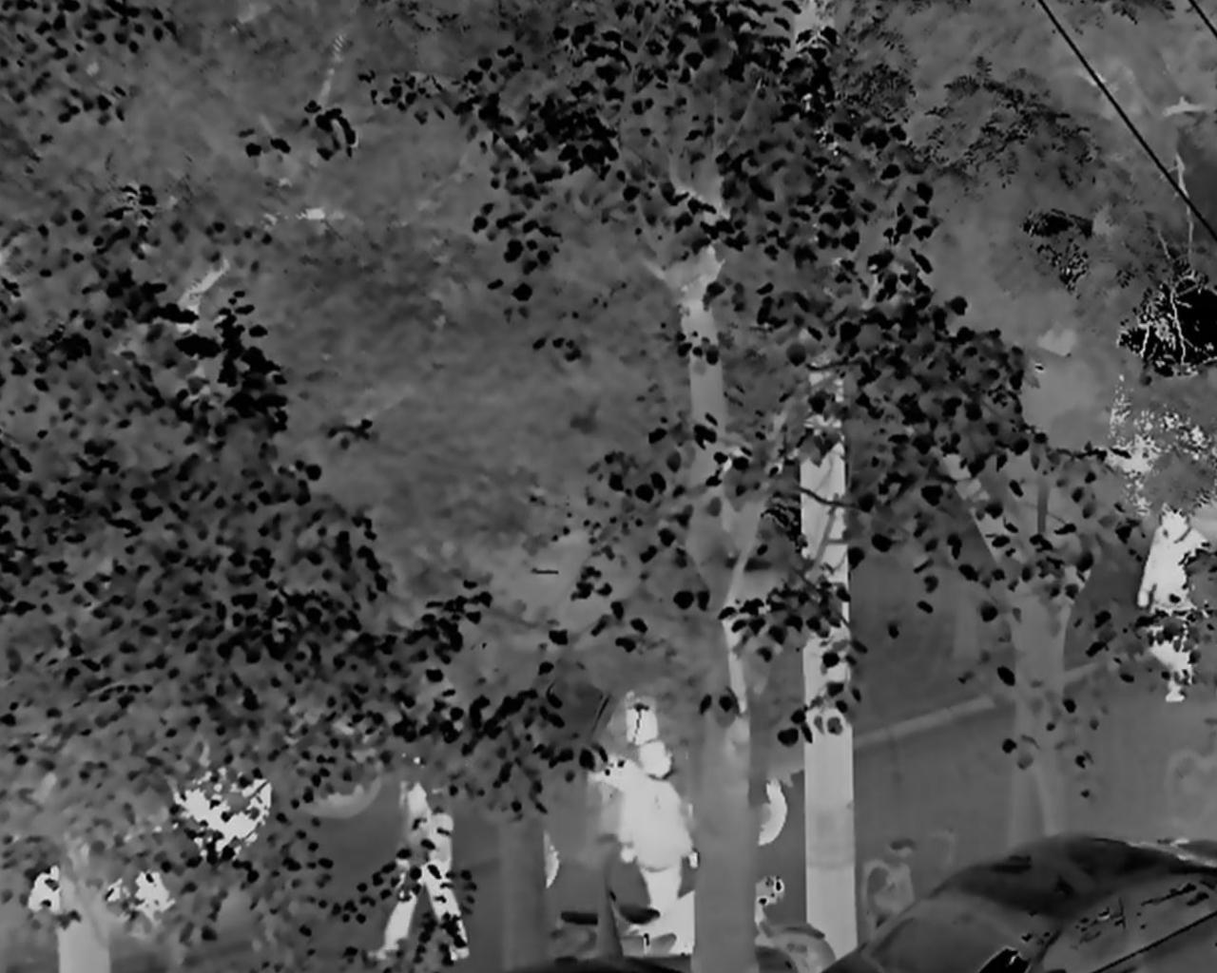person: (370, 750, 471, 973), (1135, 504, 1209, 705), (618, 740, 700, 914)
